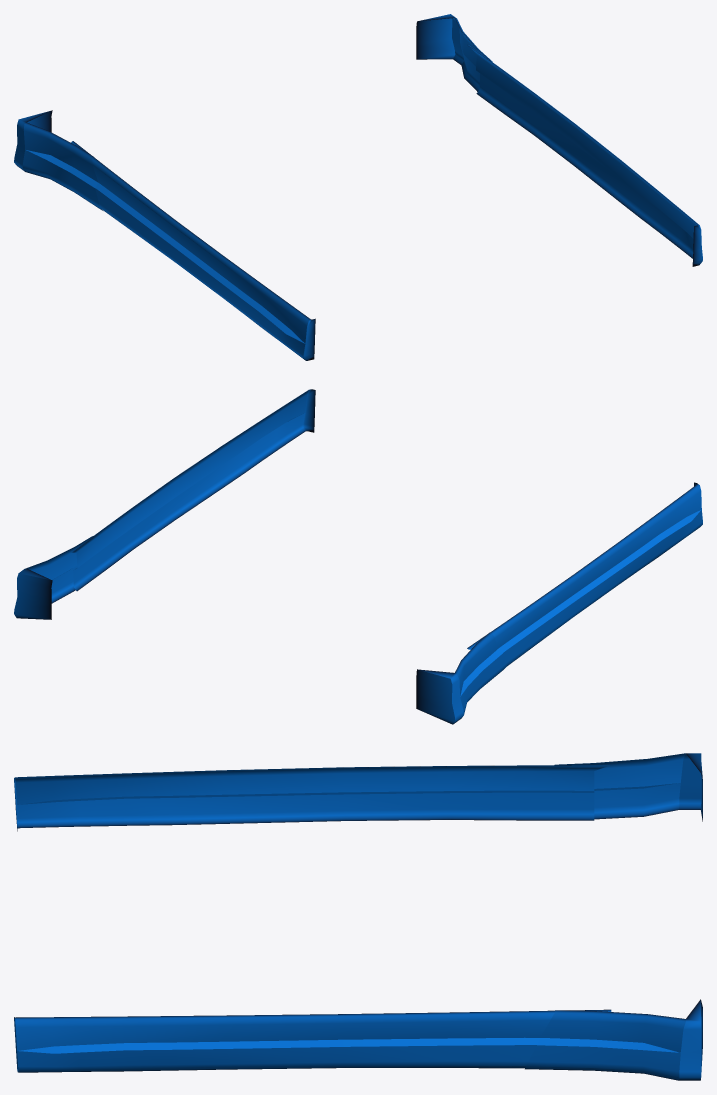
File: BMW_E36_Skirt02_Duco.fbx
The picture shows the model from 3 angles, top to bottom: view 1: azimuth 30°, elevation 25°; view 2: azimuth 150°, elevation 25°; view 3: azimuth 270°, elevation 25°; orthographic projection. The views are drawn at different scales.
Visible parts, largest first — view 1: BMW_E36_Skirt02_Duco; view 2: BMW_E36_Skirt02_Duco; view 3: BMW_E36_Skirt02_Duco.
Boxes of the visible parts, x1,y1,x2,y2 form: BMW_E36_Skirt02_Duco: (14, 14, 702, 360); BMW_E36_Skirt02_Duco: (14, 389, 702, 724); BMW_E36_Skirt02_Duco: (14, 753, 702, 1080).
Size of the model in its own units: 1.87 by 0.2052 by 1.99.
